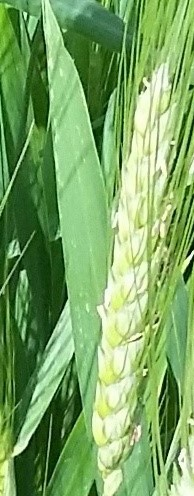Healthy Wheat: (93, 83, 194, 453)
